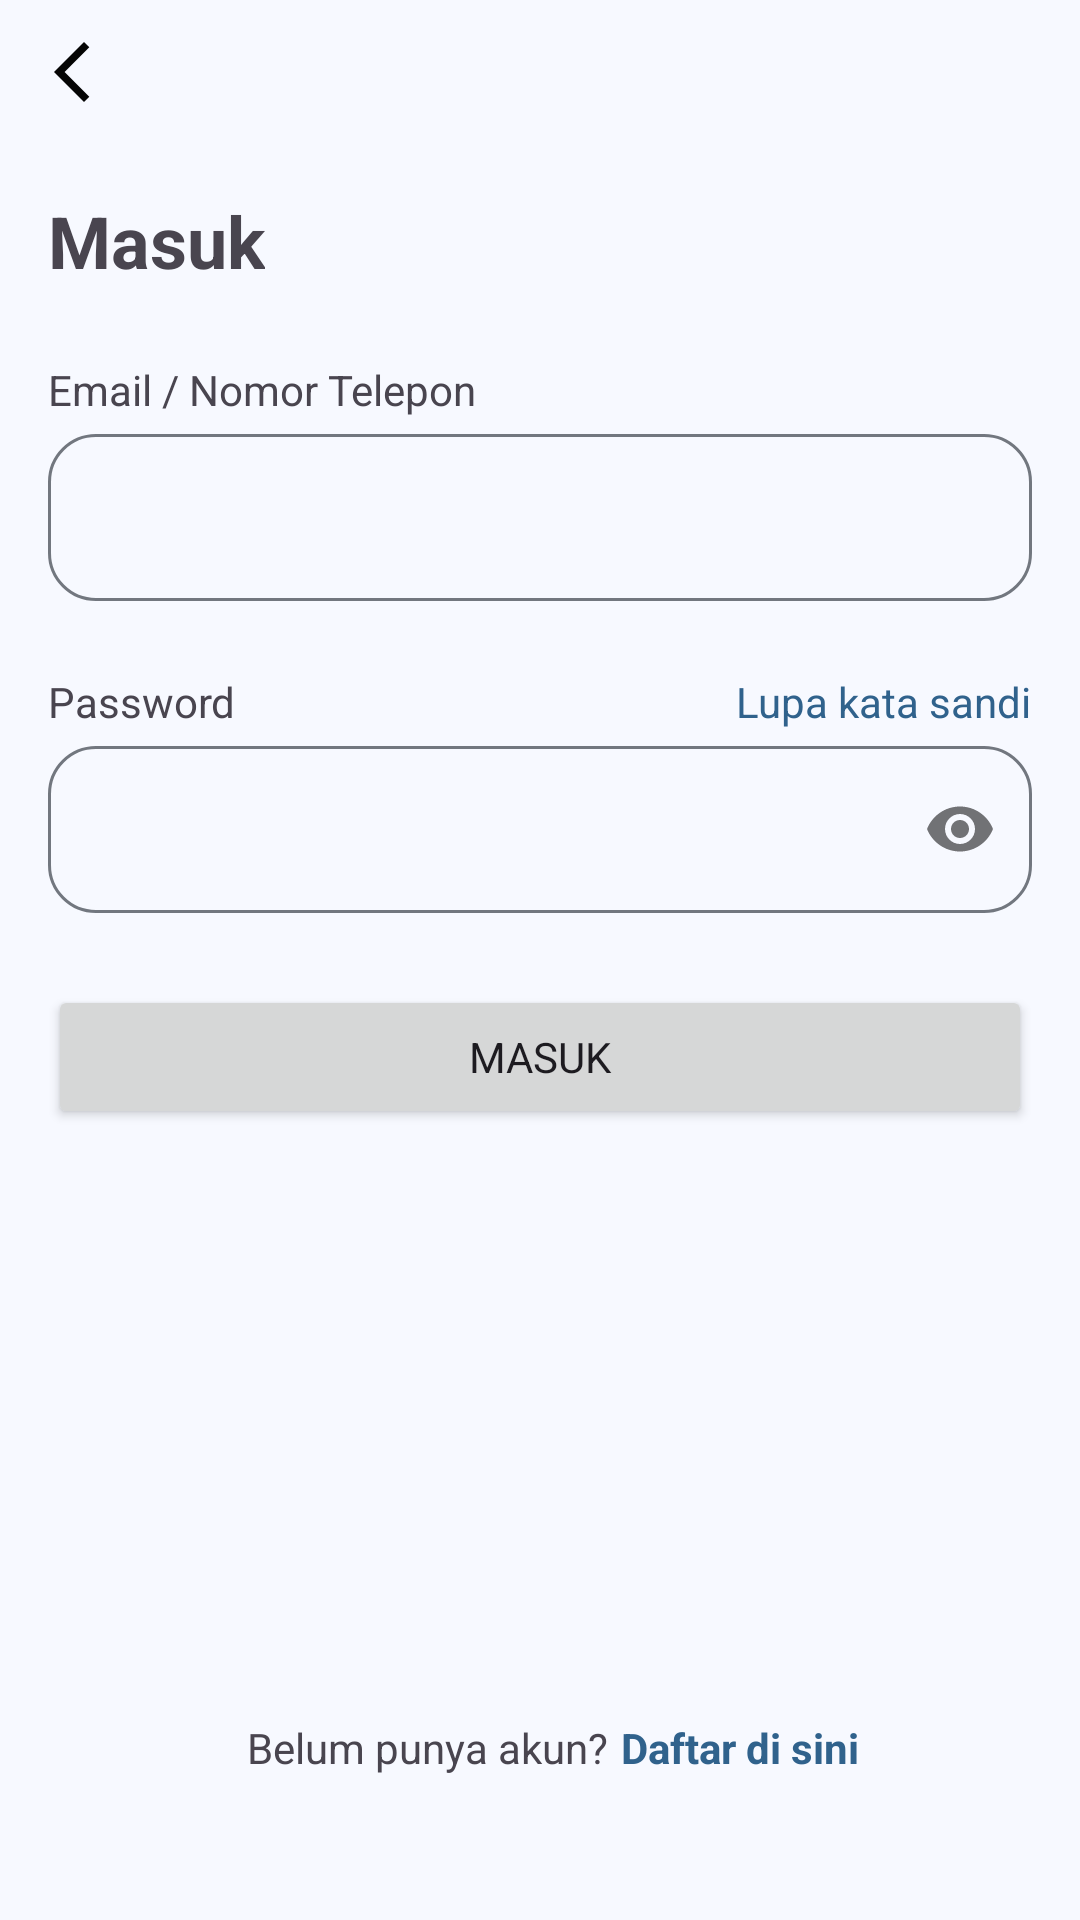

Named icons in this screenshot (1080px×1920px) and their centers, [x,y]:
back: [71,72]
